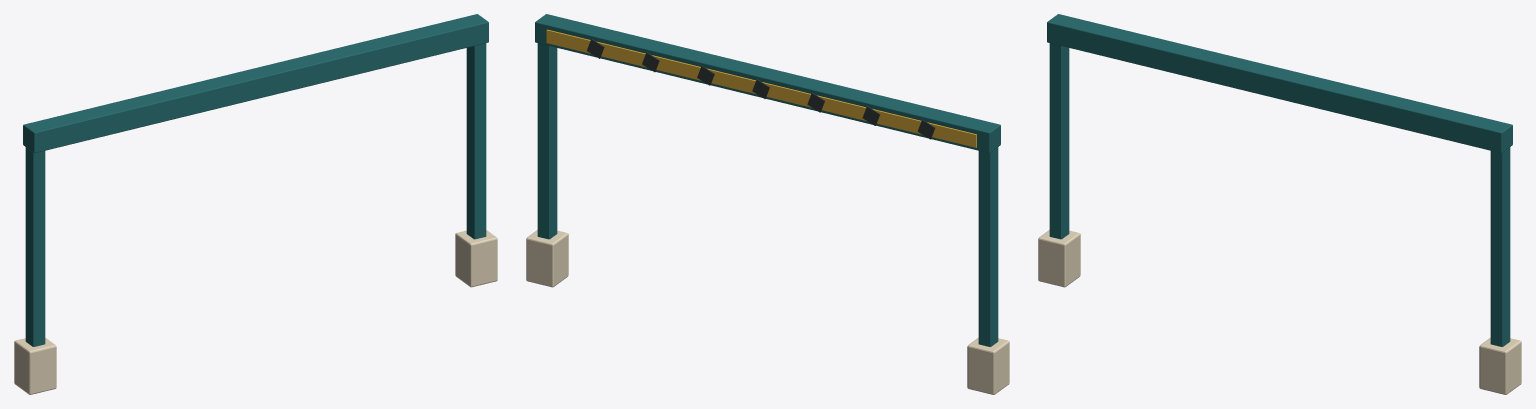
File: truck-entrance-8m.glb
3 renders of one model, left to right at view 1: azimuth 30°, elevation 25°; view 2: azimuth 150°, elevation 25°; view 3: azimuth 330°, elevation 25°, orthographic.
Visible parts, largest first — view 1: truck-entrance-8m-frame-timber-teal, truck-entrance-8m-frame-timber-cream; view 2: truck-entrance-8m-frame-timber-teal, truck-entrance-8m-frame-timber-yellow, truck-entrance-8m-frame-timber-cream, truck-entrance-8m-frame-timber-black; view 3: truck-entrance-8m-frame-timber-teal, truck-entrance-8m-frame-timber-cream.
Part boxes in pixels (x1=…): truck-entrance-8m-frame-timber-teal: x1=23, y1=14, x2=488, y2=346; truck-entrance-8m-frame-timber-cream: x1=14, y1=230, x2=497, y2=394; truck-entrance-8m-frame-timber-teal: x1=535, y1=14, x2=1000, y2=346; truck-entrance-8m-frame-timber-yellow: x1=546, y1=29, x2=976, y2=147; truck-entrance-8m-frame-timber-cream: x1=526, y1=230, x2=1009, y2=394; truck-entrance-8m-frame-timber-black: x1=587, y1=39, x2=935, y2=139; truck-entrance-8m-frame-timber-teal: x1=1047, y1=14, x2=1512, y2=346; truck-entrance-8m-frame-timber-cream: x1=1038, y1=230, x2=1521, y2=394.
Bounding box in the file's own units: 8.5 × 4.5 × 0.5.
